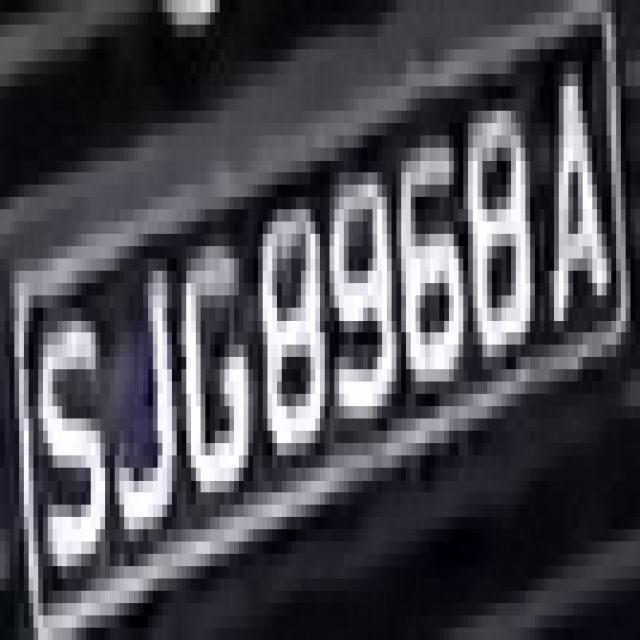6: (377, 123, 478, 455)
8: (454, 62, 540, 369), (248, 172, 329, 480)
9: (310, 135, 396, 480)
A: (525, 25, 616, 357)
G: (167, 209, 253, 517)
J: (105, 246, 191, 566)
S: (24, 283, 110, 640)
